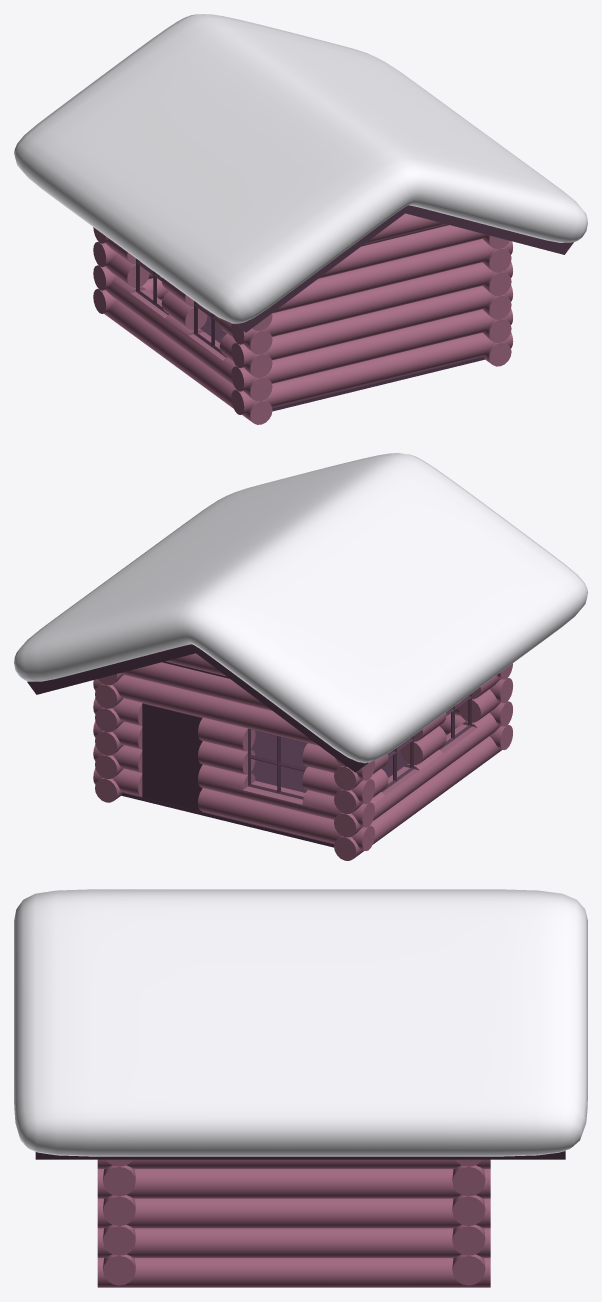
The model's file is chalet.fbx.
The picture shows the model from 3 angles, top to bottom: view 1: azimuth 30°, elevation 25°; view 2: azimuth 150°, elevation 25°; view 3: azimuth 270°, elevation 25°; orthographic projection. The views are drawn at different scales.
Parts seen in each view (by area): view 1: Plane.001, Cylinder.001, Cylinder.003, Plane, Cylinder.002, Cylinder, Cube; view 2: Plane.001, Cylinder, Cylinder.003, Cube.008, Plane, Cube, Cylinder.002, Cylinder.001, Cube.003; view 3: Plane.001, Cylinder.002, Cylinder, Cylinder.001, Plane.
Boxes of the visible parts, bbox=[...] form: Plane.001: bbox=[14, 14, 587, 323]; Cylinder.001: bbox=[231, 213, 513, 414]; Cylinder.003: bbox=[104, 239, 272, 424]; Plane: bbox=[234, 205, 573, 332]; Cylinder.002: bbox=[482, 235, 511, 366]; Cylinder: bbox=[93, 227, 168, 313]; Cube: bbox=[161, 299, 485, 411]; Plane.001: bbox=[14, 453, 587, 762]; Cylinder: bbox=[93, 653, 374, 850]; Cylinder.003: bbox=[334, 675, 502, 860]; Cube.008: bbox=[142, 703, 202, 811]; Plane: bbox=[27, 644, 368, 772]; Cube: bbox=[121, 730, 407, 847]; Cylinder.002: bbox=[95, 673, 123, 802]; Cylinder.001: bbox=[439, 663, 512, 749]; Cube.003: bbox=[248, 728, 307, 799]; Plane.001: bbox=[14, 889, 587, 1156]; Cylinder.002: bbox=[97, 1159, 490, 1287]; Cylinder: bbox=[452, 1159, 485, 1285]; Cylinder.001: bbox=[103, 1159, 135, 1285]; Plane: bbox=[35, 1150, 565, 1159].
Size of the model in its own units: 2481 by 1593 by 2628.
